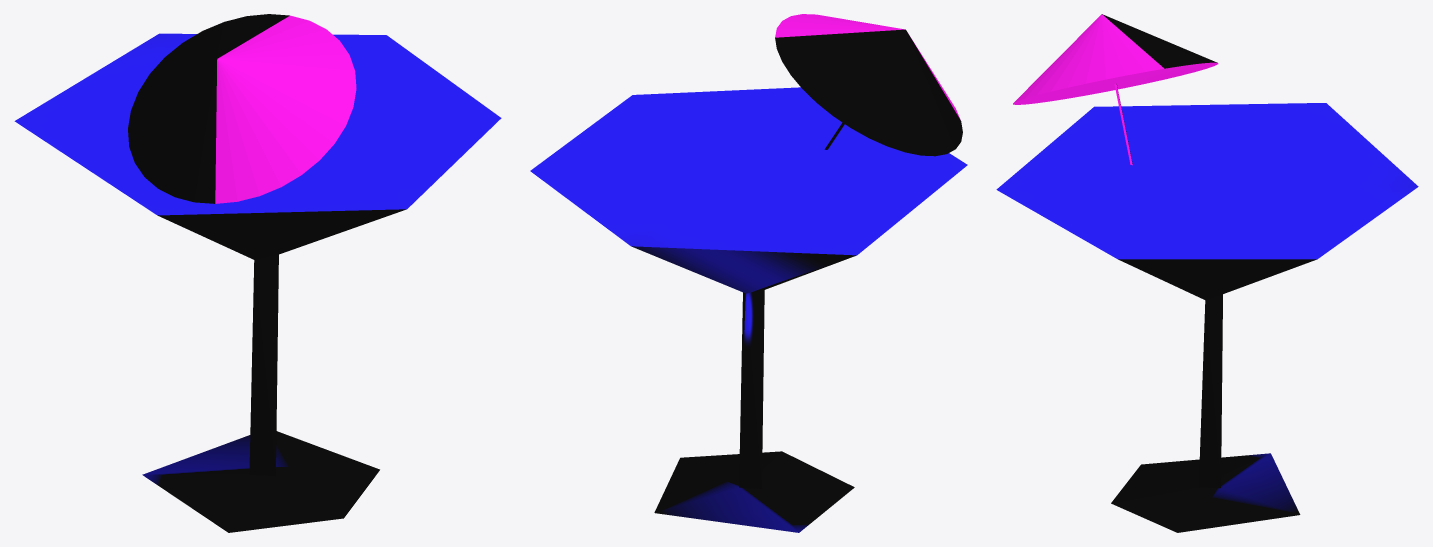
The model's file is cocktail.glb.
3 views of the same model, side by side, from view 1: azimuth 30°, elevation 25°; view 2: azimuth 150°, elevation 25°; view 3: azimuth 270°, elevation 25° (orthographic). The views are drawn at different scales.
Parts seen in each view (by area): view 1: Cylinder; view 2: Cylinder; view 3: Cylinder.
Part boxes in pixels (left/top/right/bottom): Cylinder: left=14, top=14, right=501, bottom=532; Cylinder: left=530, top=14, right=967, bottom=532; Cylinder: left=996, top=14, right=1418, bottom=532.
Size of the model in its own units: 0.2609 by 0.3379 by 0.2967.
1 material, 1 textured.
